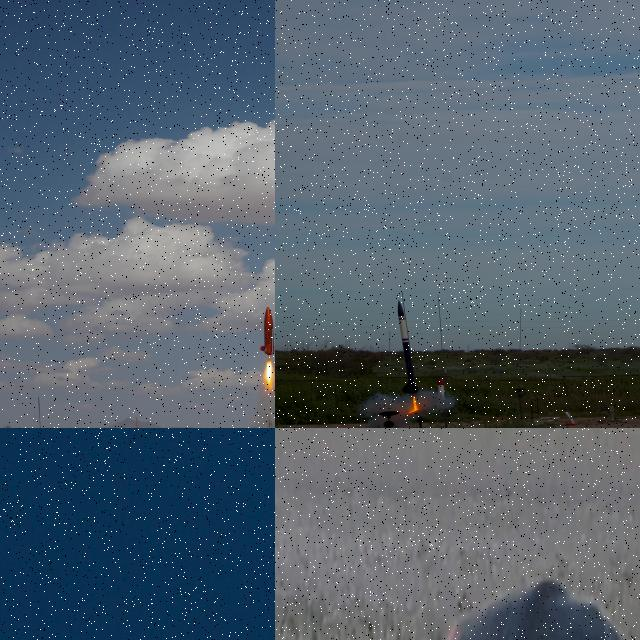Rocket: (396, 300, 421, 394), (259, 306, 275, 356), (431, 378, 453, 408)
